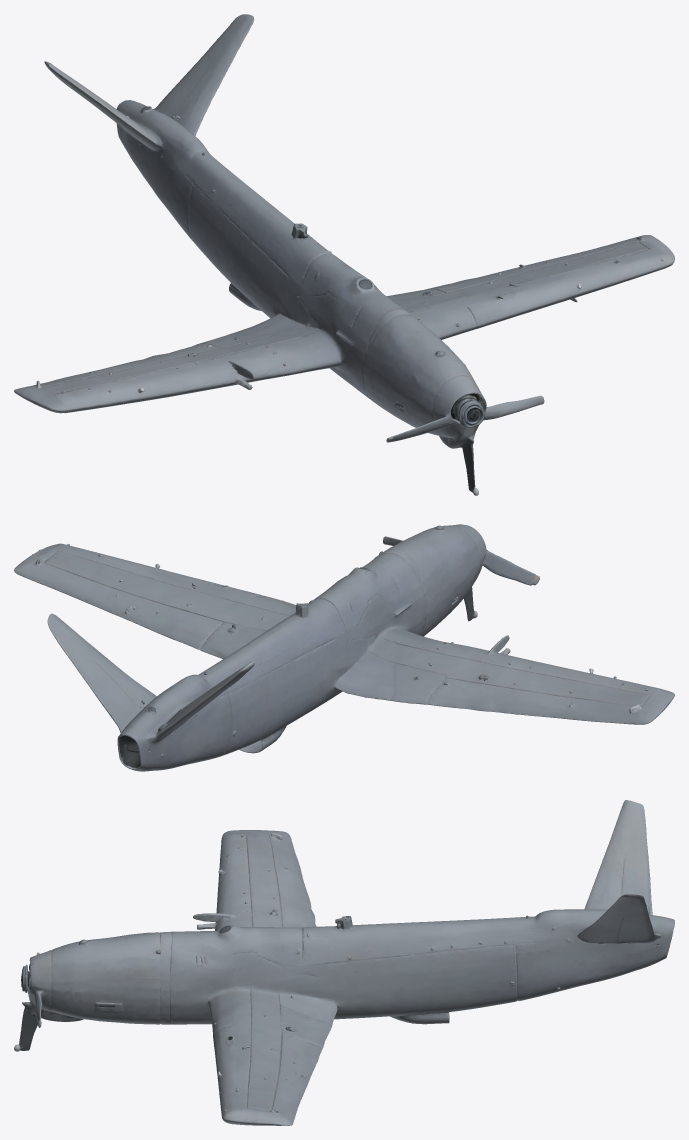
File: kartal.glb
3 renders of one model, top to bottom at view 1: azimuth 30°, elevation 25°; view 2: azimuth 150°, elevation 25°; view 3: azimuth 270°, elevation 25°, orthographic. The views are drawn at different scales.
Parts seen in each view (by area): view 1: tripo_node_1817d759-2775-48d7-a815-207d46a56dae; view 2: tripo_node_1817d759-2775-48d7-a815-207d46a56dae; view 3: tripo_node_1817d759-2775-48d7-a815-207d46a56dae.
Boxes of the visible parts, x1,y1,x2,y2 form: tripo_node_1817d759-2775-48d7-a815-207d46a56dae: [14, 14, 674, 495]; tripo_node_1817d759-2775-48d7-a815-207d46a56dae: [14, 524, 674, 771]; tripo_node_1817d759-2775-48d7-a815-207d46a56dae: [14, 800, 674, 1125].
Size of the model in its own units: 1 by 0.3262 by 0.9545.
Materials: 1 (1 with a texture image).
